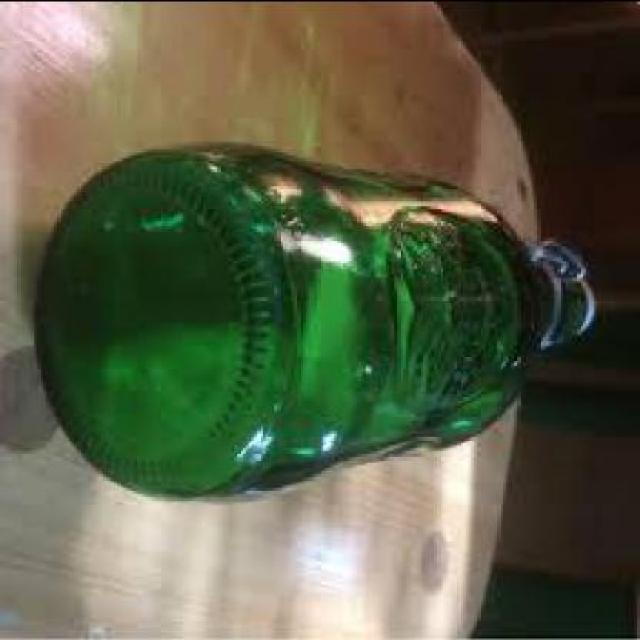GLASS: (37, 145, 594, 504)
